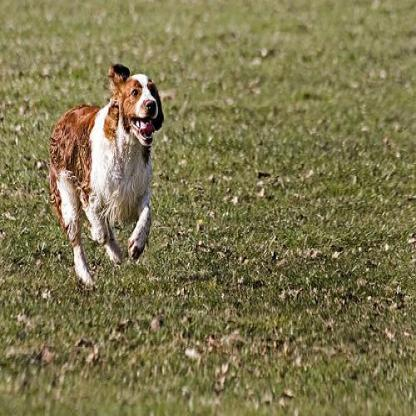Welsh_springer_spaniel: (47, 62, 162, 288)
